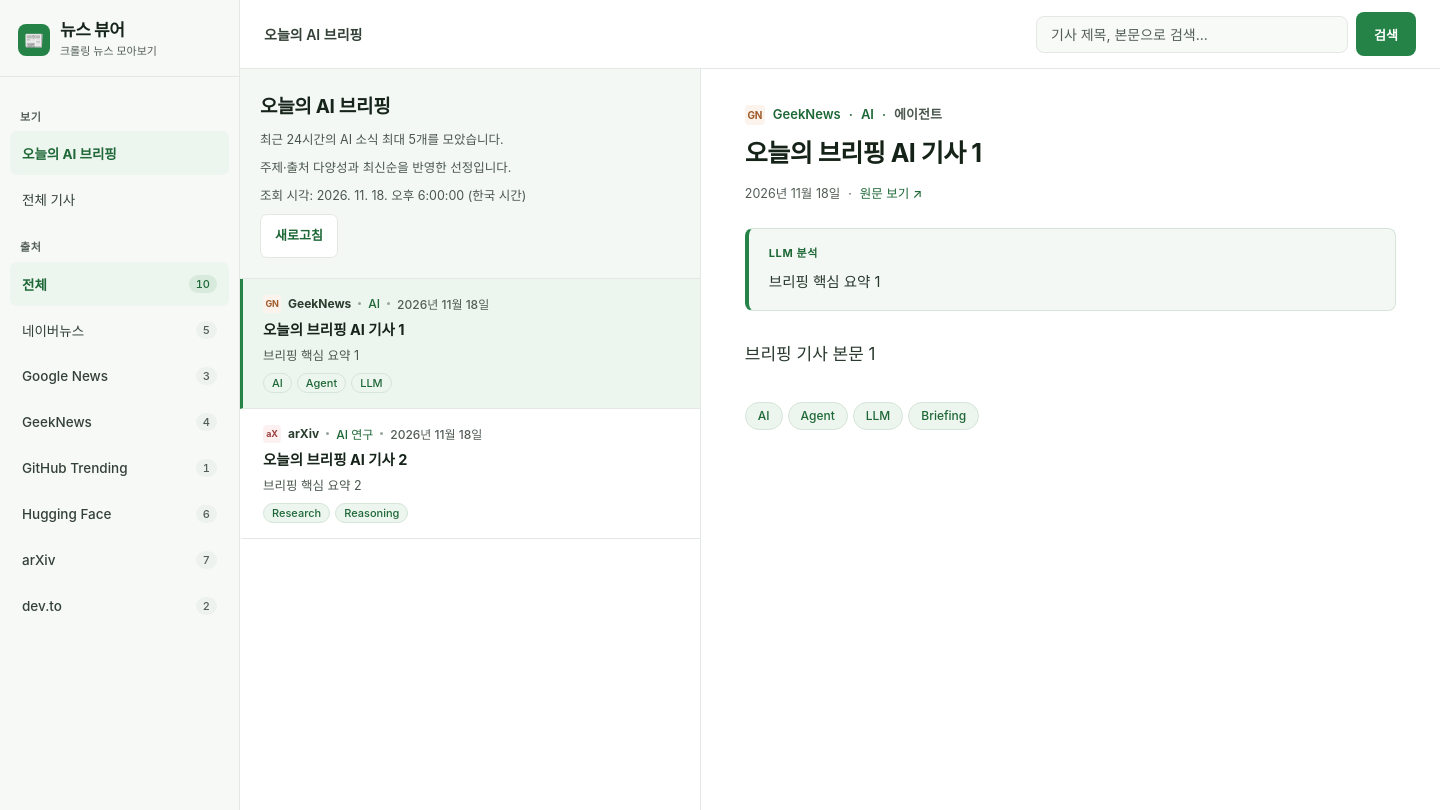
뉴스 뷰어 전체 화면 사용자 시나리오 › 전체 기사 보기에서 기사 피드 조회에 실패하면 목록과 선택을 비우고 오류 알림을 표시한다
Click the button "전체 기사".
click(120, 199)  # box [10, 177, 229, 221]
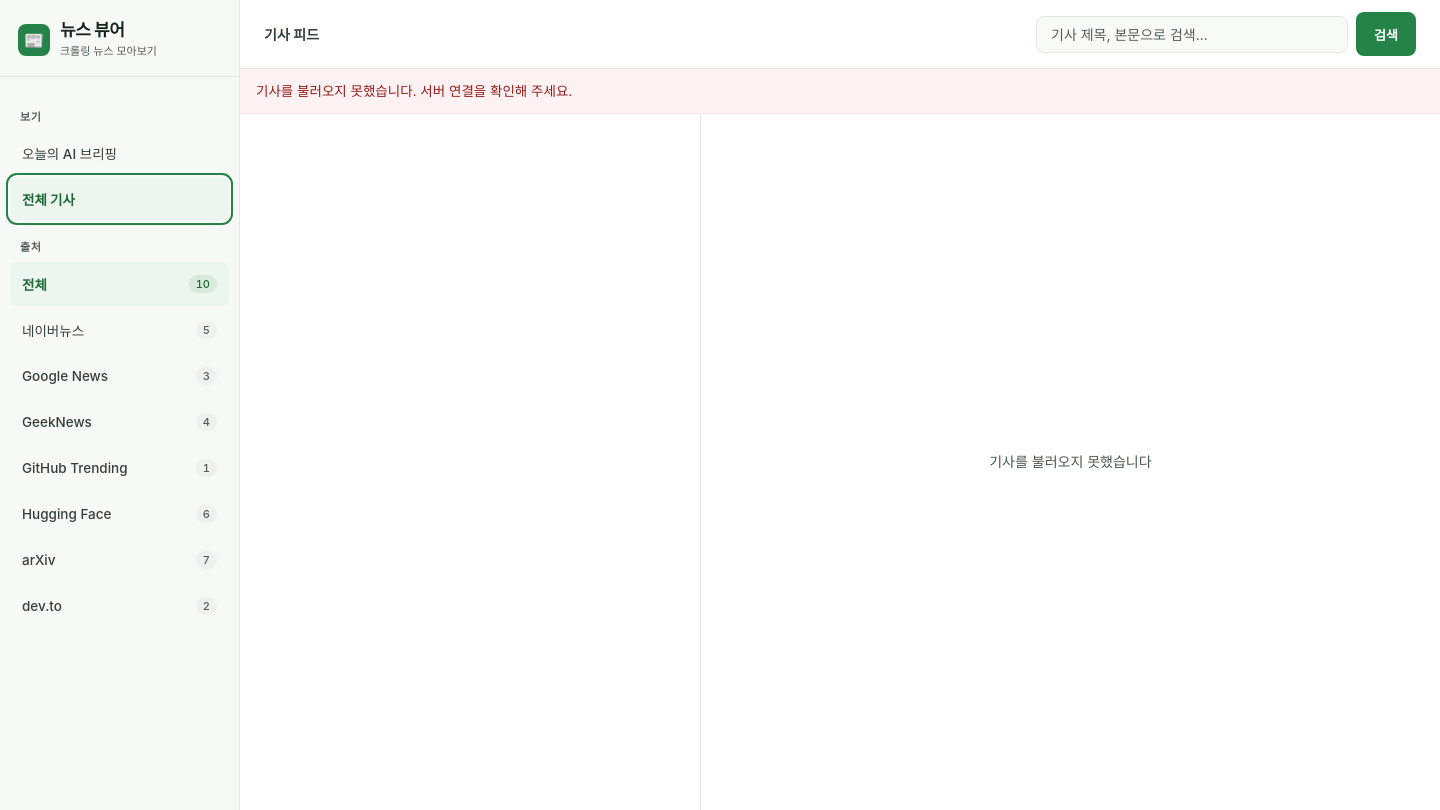
Expected: the message reads "기사를 불러오지 못했습니다. 서버 연결을 확인해 주세요.", [256, 83, 572, 99]
Expected: the text "기사를 불러오지 못했습니다" is shown, [989, 451, 1152, 473]
Expected: no the button "새로고침" are shown
